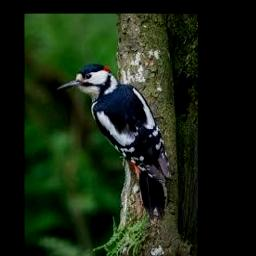Woodpecker: (57, 64, 171, 221)
